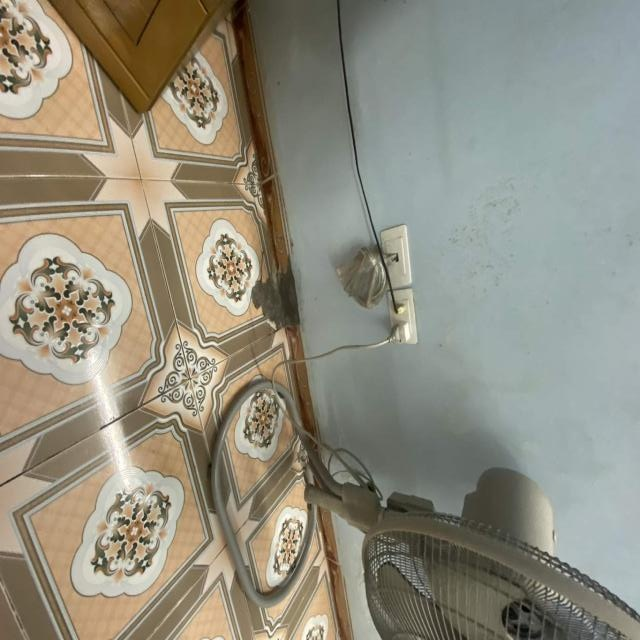outlet: (380, 224, 412, 288), (387, 287, 418, 345)
